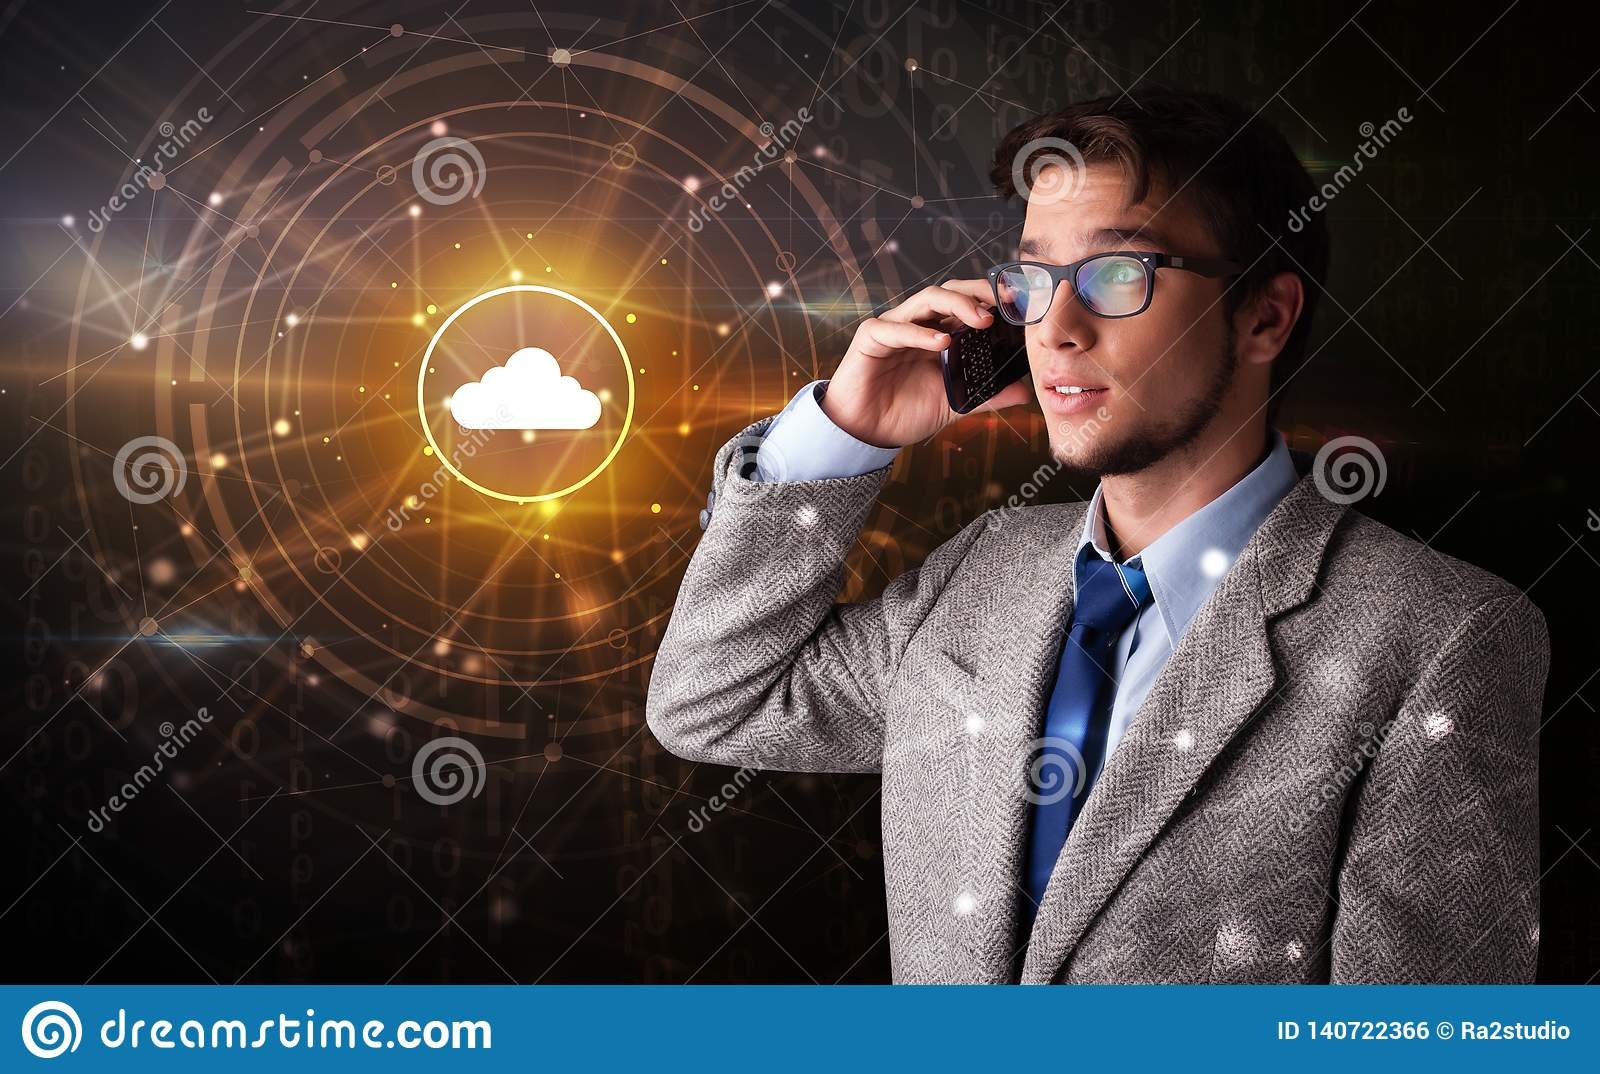phone: (937, 286, 1030, 423)
talk: (843, 215, 1202, 473)
